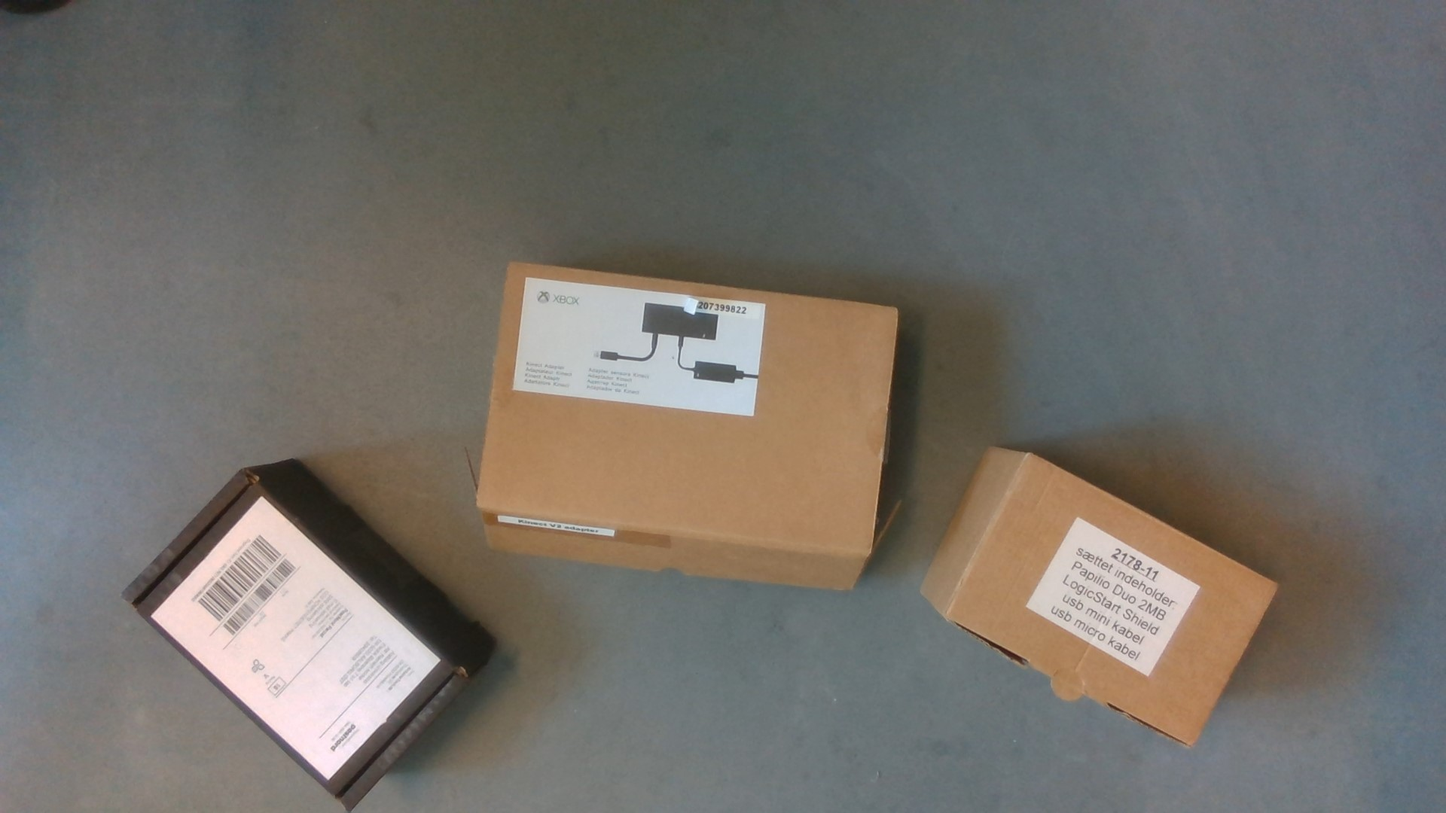Parcel: (471, 262, 899, 554), (120, 468, 466, 812), (945, 453, 1282, 751)
